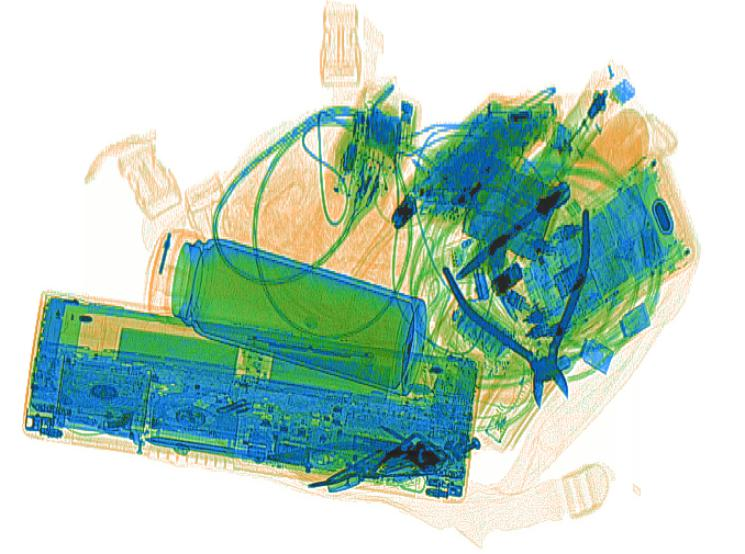battery: (449, 297, 513, 358)
